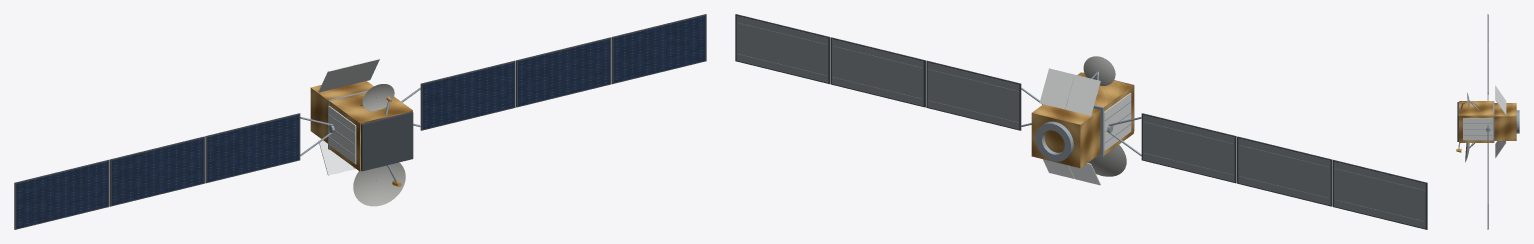
The model's file is ref-spacebus-4000b3-28885.glb.
3 views of the same model, side by side, from view 1: azimuth 30°, elevation 25°; view 2: azimuth 150°, elevation 25°; view 3: azimuth 270°, elevation 25° (orthographic). The views are drawn at different scales.
Parts seen in each view (by area): view 1: Solar cell panel (×6), Solar panel frame (×6), Earth-facing deck, Communications reflector (×2), Payload module, Deployed radiator leaf (×3), Service module, Radiator face; view 2: Rear array substrate (×6), Solar panel frame (×6), Service module, Deployed radiator leaf (×3), Communications reflector (×2), Radiator face, Payload module, Launch adapter ring; view 3: Service module, Payload module, Radiator face, Solar panel frame (×6), Deployed radiator leaf (×3), Launch adapter ring, Module interface, Earth-facing deck, Communications reflector, Rear array substrate.
Part boxes in pixels (x1,y1,x2,y2): Solar cell panel (×6): [16, 16, 705, 228]; Solar panel frame (×6): [14, 14, 706, 229]; Earth-facing deck: [361, 111, 413, 171]; Communications reflector (×2): [353, 84, 405, 206]; Payload module: [329, 92, 412, 171]; Deployed radiator leaf (×3): [318, 58, 379, 175]; Service module: [310, 81, 373, 143]; Radiator face: [328, 106, 356, 164]; Rear array substrate (×6): [736, 16, 1425, 228]; Solar panel frame (×6): [735, 14, 1427, 229]; Service module: [1031, 104, 1100, 168]; Deployed radiator leaf (×3): [1039, 68, 1100, 185]; Communications reflector (×2): [1083, 56, 1126, 176]; Radiator face: [1103, 93, 1131, 151]; Payload module: [1069, 72, 1133, 154]; Launch adapter ring: [1035, 121, 1073, 161]; Service module: [1494, 103, 1516, 140]; Payload module: [1459, 101, 1492, 142]; Radiator face: [1463, 118, 1493, 140]; Solar panel frame (×6): [1487, 14, 1488, 229]; Deployed radiator leaf (×3): [1495, 85, 1506, 158]; Launch adapter ring: [1516, 110, 1519, 133]; Module interface: [1493, 101, 1494, 142]; Earth-facing deck: [1457, 102, 1458, 141]; Communications reflector: [1465, 143, 1469, 162]; Rear array substrate: [1488, 179, 1488, 228].
Bounding box in the file's own units: 29.96 × 5.01 × 4.25.
Materials: 8 (2 with a texture image).
